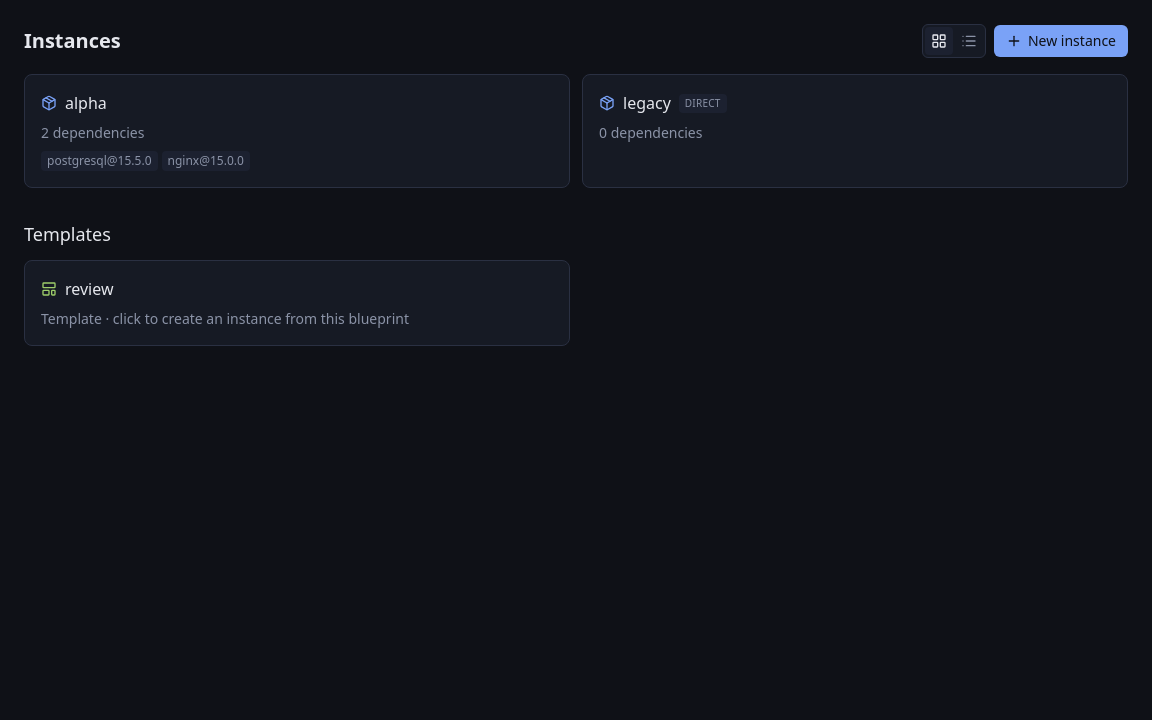
Test: Dashboard › reports why a creation was refused and keeps the dialog open
The image size is (1152, 720).
expect the text "alpha" is shown: met, box [65,91,107,115]
Click the button "New instance" at (1061, 41), box [994,25,1128,57]
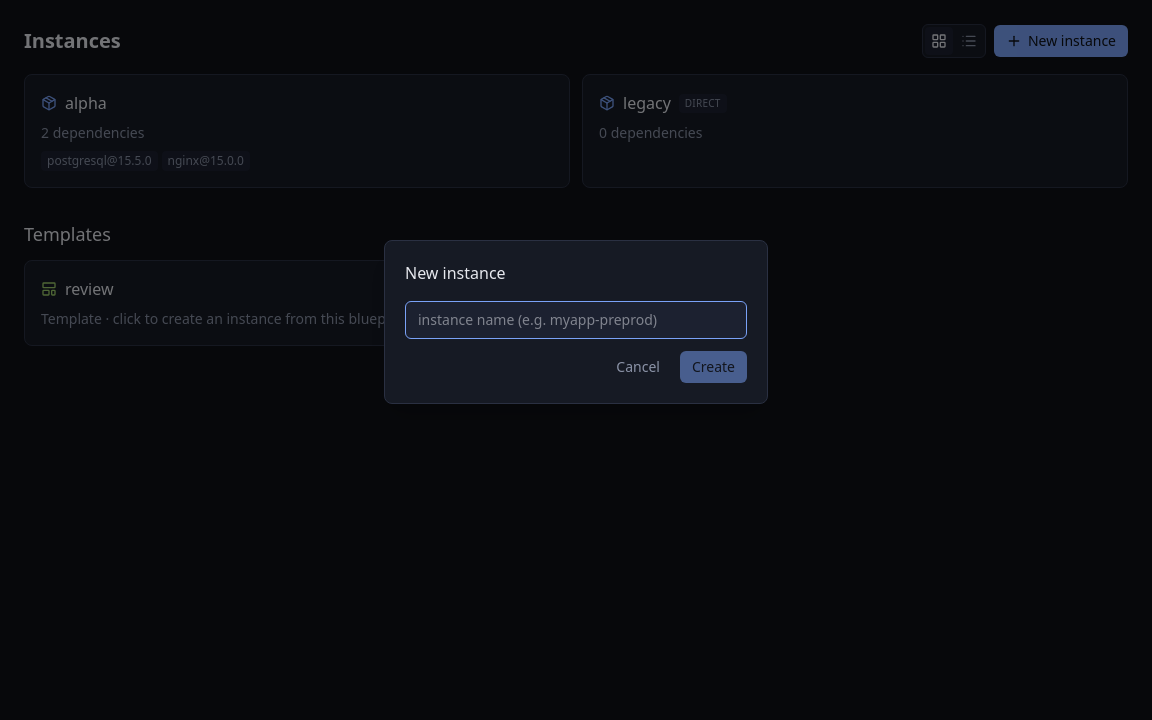
Type "alpha" into the field with placeholder "instance name (e.g. myapp-preprod)" at (576, 320), box [405,301,747,339]
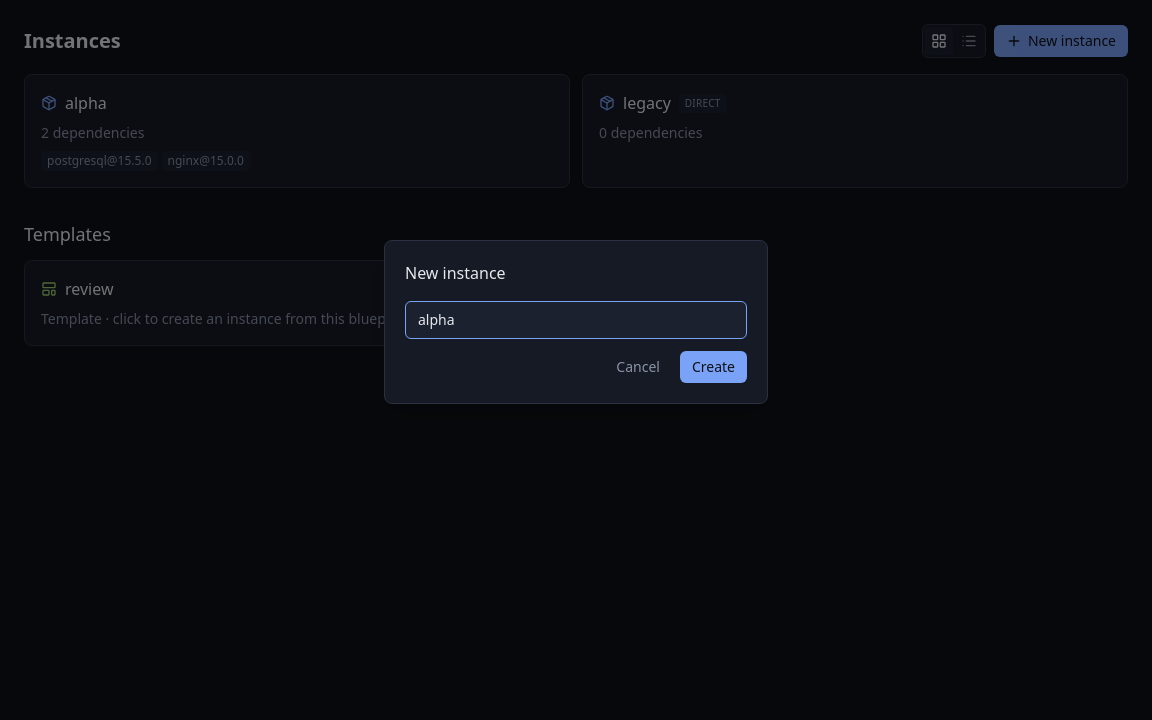
Click the button "Create" at (713, 367), box [680,351,747,383]
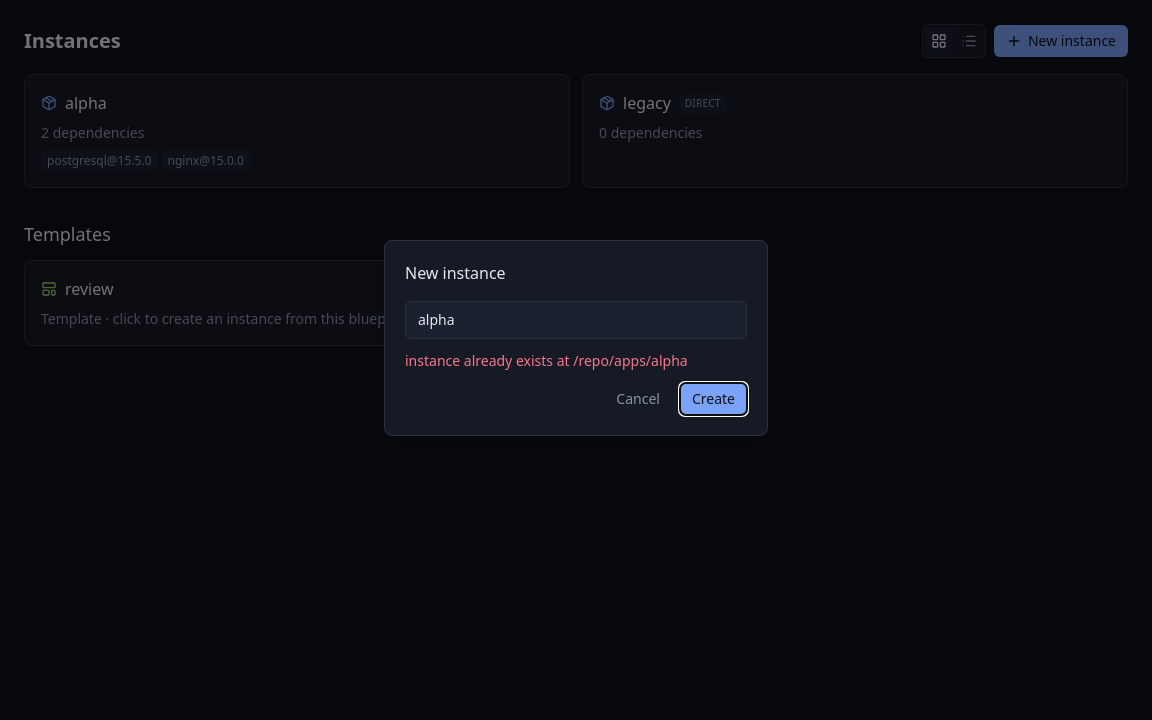
expect the text "instance already exists at /repo/apps/alpha" is shown: met, box [405,351,688,370]
